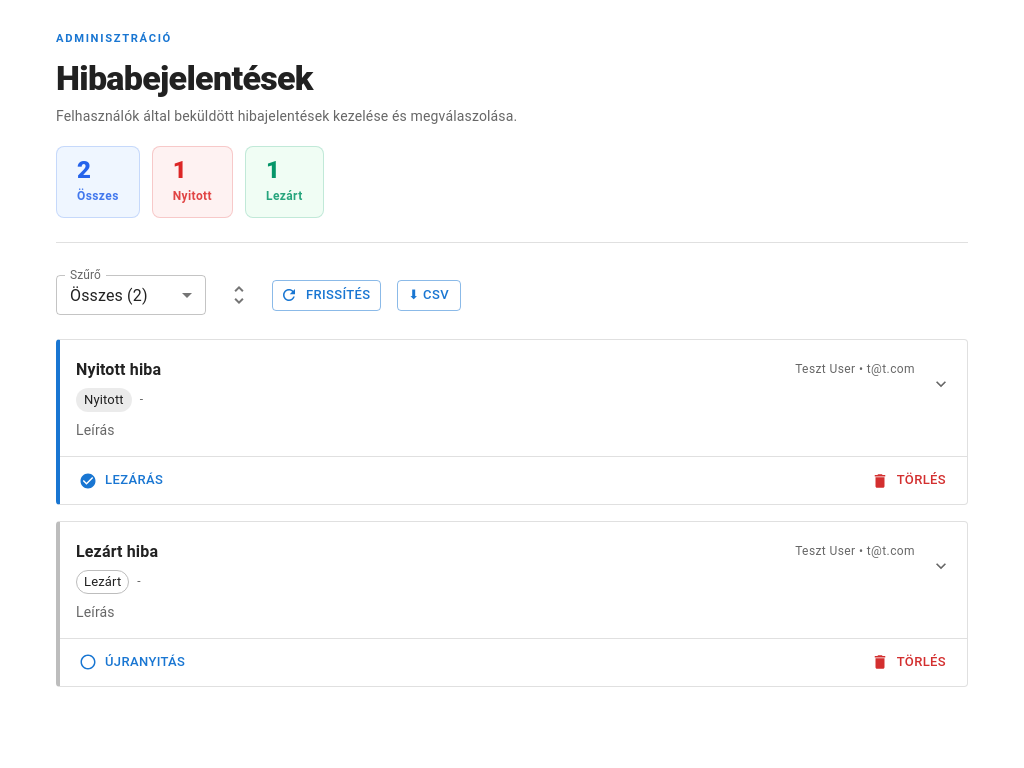
Scenario: BugReports › filter nyitott hides closed reports
expect the heading "Nyitott hiba" is shown: met, box [76,360,161,379]
Click the dropdown at (109, 295), box [70,286,148,305]
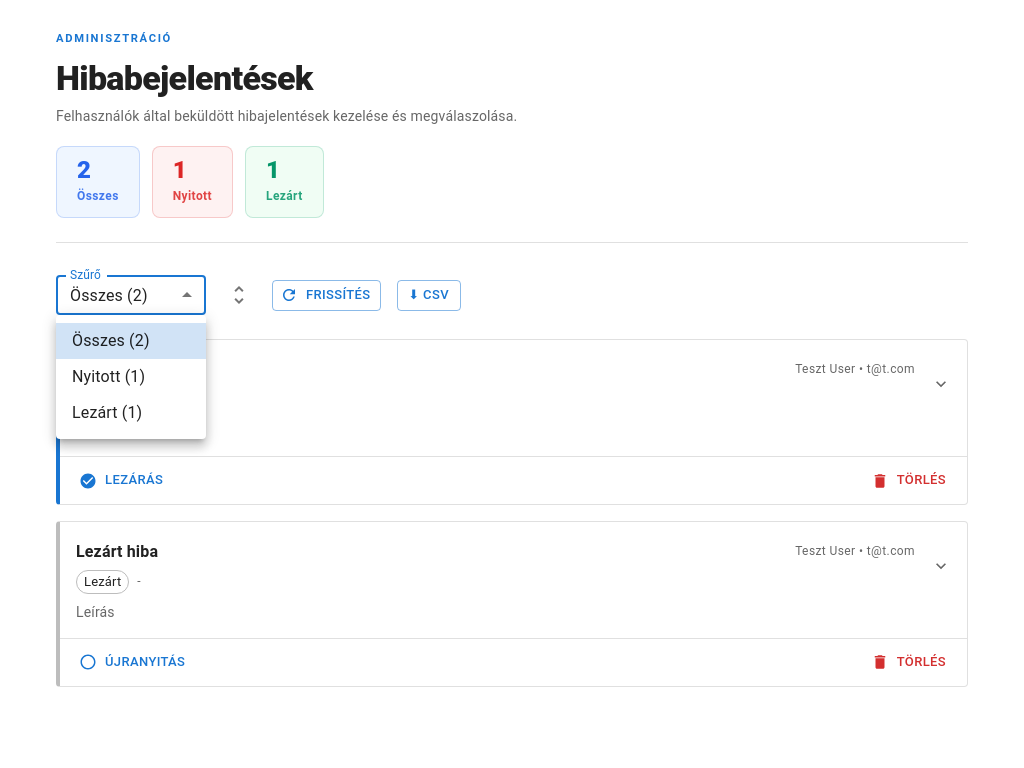
Click the option "Nyitott (1)" at (109, 376), box [72,367,145,386]
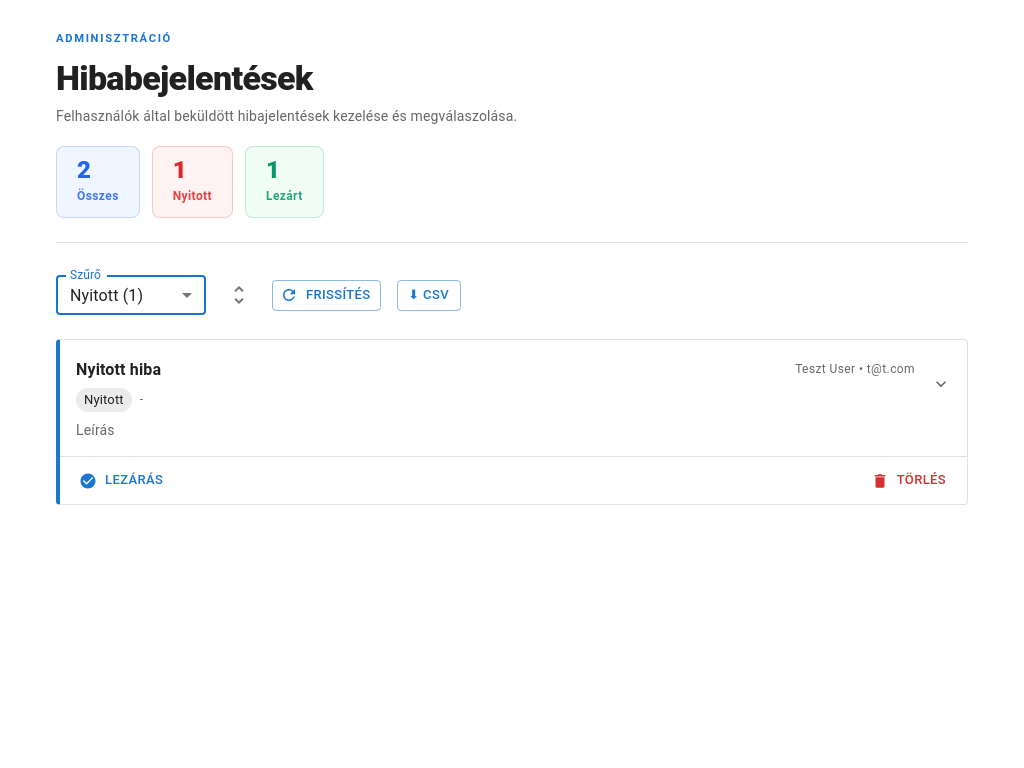
expect the heading "Nyitott hiba" is shown: met, box [76,360,161,379]
expect the heading "Lezárt hiba" is gone: met
